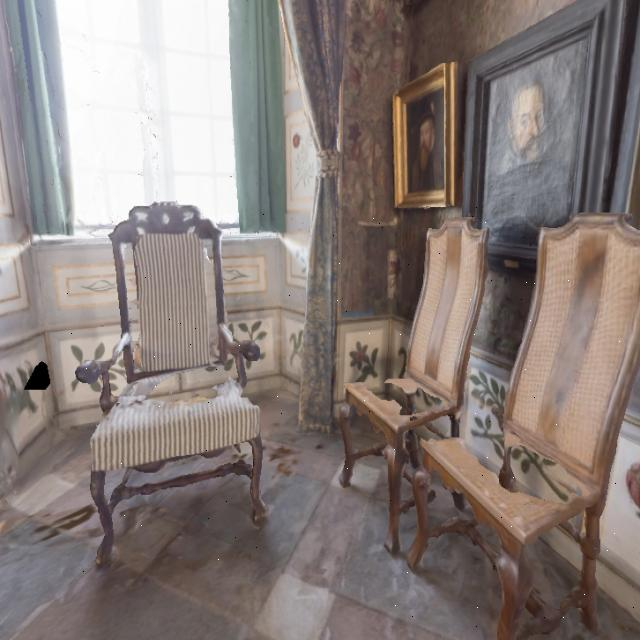chair: (393, 223, 640, 640), (54, 205, 293, 573), (331, 202, 489, 556)
